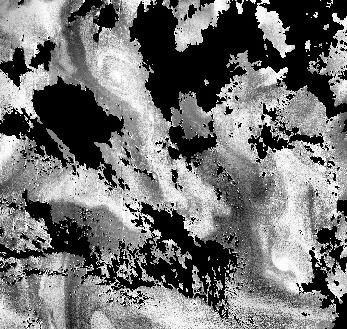CE: (97, 50, 144, 99)
